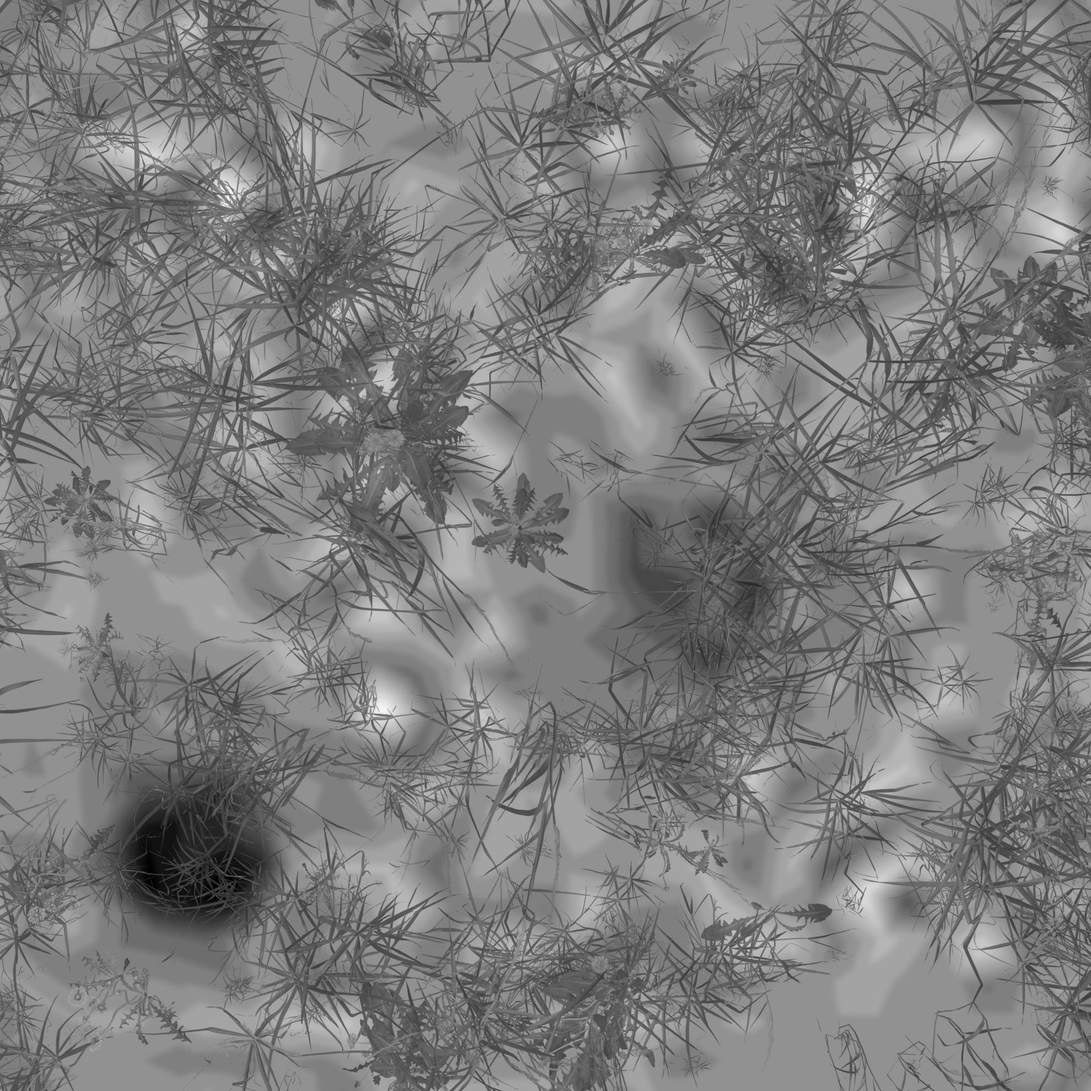landmine: (595, 485, 791, 679), (103, 791, 270, 933)
